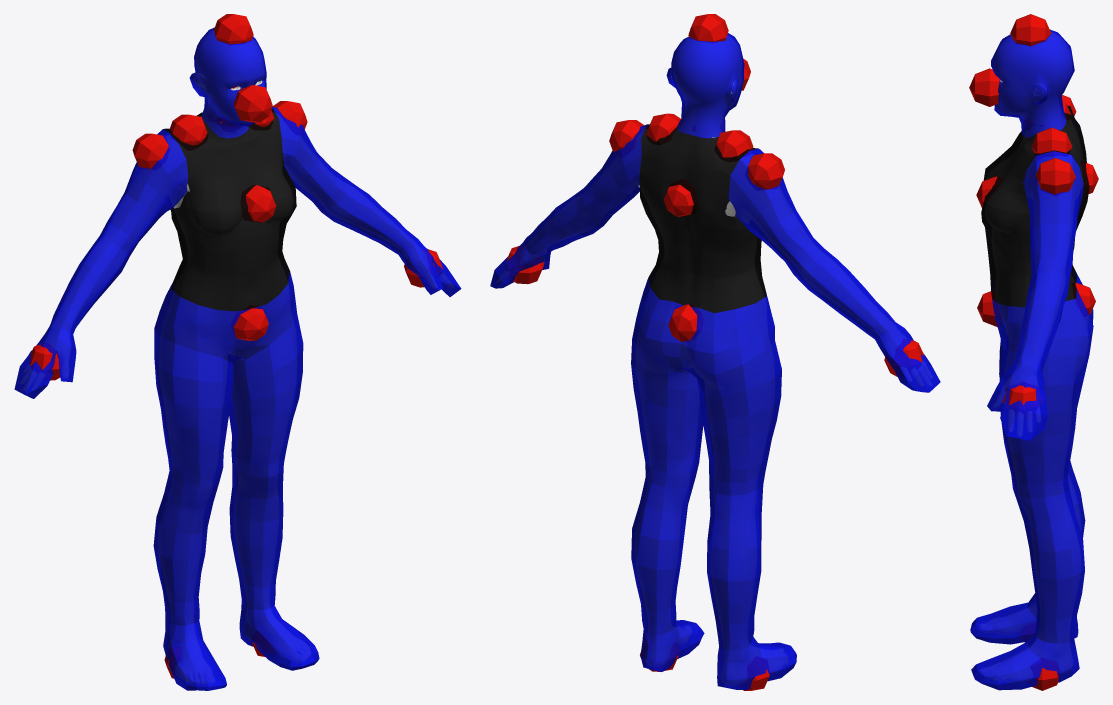
File: V9_Cage_Att_MVC_Template_11.fbx
3 renders of one model, left to right at view 1: azimuth 30°, elevation 25°; view 2: azimuth 150°, elevation 25°; view 3: azimuth 270°, elevation 25°, orthographic.
Parts seen in each view (by area): view 1: UpperTorso_OuterCage, RightUpperLeg_OuterCage, LeftUpperLeg_OuterCage, RightLowerLeg_OuterCage, LeftLowerLeg_OuterCage, LowerTorso_OuterCage, Head_OuterCage, RightUpperArm_OuterCage, RightLowerArm_OuterCage, LeftUpperArm_OuterCage, LeftFoot_OuterCage, LeftLowerArm_OuterCage (+9 smaller); view 2: UpperTorso_OuterCage, RightUpperLeg_OuterCage, LowerTorso_OuterCage, RightLowerLeg_OuterCage, LeftUpperLeg_OuterCage, LeftLowerLeg_OuterCage, Head_OuterCage, RightUpperArm_OuterCage, RightLowerArm_OuterCage, LeftUpperArm_OuterCage, RightFoot_OuterCage, LeftLowerArm_OuterCage (+9 smaller); view 3: UpperTorso_OuterCage, LeftLowerLeg_OuterCage, LeftUpperLeg_OuterCage, Head_OuterCage, LeftUpperArm_OuterCage, LeftFoot_OuterCage, LeftLowerArm_OuterCage, LowerTorso_OuterCage, LeftHand_OuterCage, RightFoot_OuterCage, LeftShoulder_Att, Hair_Att (+9 smaller).
Boxes of the visible parts, x1,y1,x2,y2 form: UpperTorso_OuterCage: (163, 108, 296, 311); RightUpperLeg_OuterCage: (154, 329, 233, 486); LeftUpperLeg_OuterCage: (229, 314, 303, 478); RightLowerLeg_OuterCage: (153, 471, 219, 625); LeftLowerLeg_OuterCage: (229, 463, 283, 610); LowerTorso_OuterCage: (154, 271, 296, 363); Head_OuterCage: (189, 27, 266, 138); RightUpperArm_OuterCage: (100, 129, 188, 254); RightLowerArm_OuterCage: (50, 235, 130, 333); LeftUpperArm_OuterCage: (272, 107, 347, 212); LeftFoot_OuterCage: (239, 600, 319, 670); LeftLowerArm_OuterCage: (321, 176, 417, 254); UpperTorso_OuterCage: (639, 124, 766, 313); RightUpperLeg_OuterCage: (696, 341, 781, 495); LowerTorso_OuterCage: (632, 278, 774, 378); RightLowerLeg_OuterCage: (707, 485, 763, 650); LeftUpperLeg_OuterCage: (631, 338, 703, 489); LeftLowerLeg_OuterCage: (631, 477, 695, 635); Head_OuterCage: (666, 33, 744, 138); RightUpperArm_OuterCage: (728, 148, 824, 274); RightLowerArm_OuterCage: (794, 249, 895, 339); LeftUpperArm_OuterCage: (575, 124, 646, 227); RightFoot_OuterCage: (717, 636, 796, 689); LeftLowerArm_OuterCage: (525, 193, 603, 256); UpperTorso_OuterCage: (981, 105, 1089, 307); LeftLowerLeg_OuterCage: (1013, 486, 1084, 643); LeftUpperLeg_OuterCage: (999, 349, 1089, 497); Head_OuterCage: (991, 29, 1074, 138); LeftUpperArm_OuterCage: (1023, 151, 1083, 278); LeftFoot_OuterCage: (971, 633, 1079, 690); LeftLowerArm_OuterCage: (1013, 271, 1069, 371); LowerTorso_OuterCage: (992, 273, 1093, 356); LeftHand_OuterCage: (987, 364, 1047, 440); RightFoot_OuterCage: (970, 593, 1078, 644); LeftShoulder_Att: (1035, 158, 1075, 194); Hair_Att: (1010, 14, 1051, 46).
Bounding box in the file's own units: 4.08 × 5.88 × 1.06.
